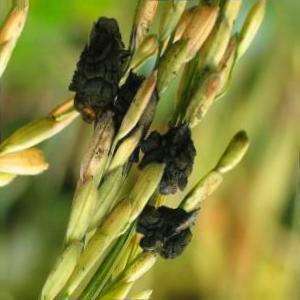Leaf_Scald: (74, 20, 118, 124), (148, 120, 189, 192), (149, 210, 189, 258)
